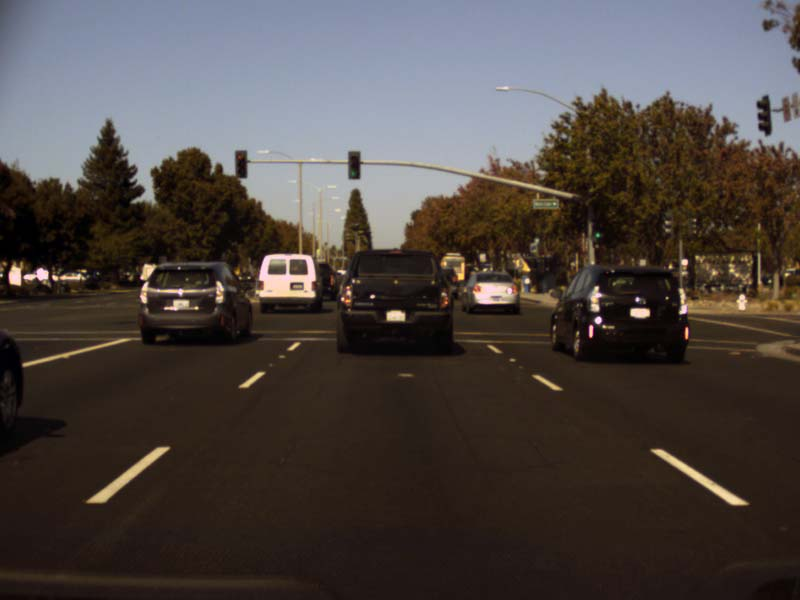Green: (348, 150, 359, 179), (593, 219, 602, 238)
Red: (234, 150, 246, 178)
